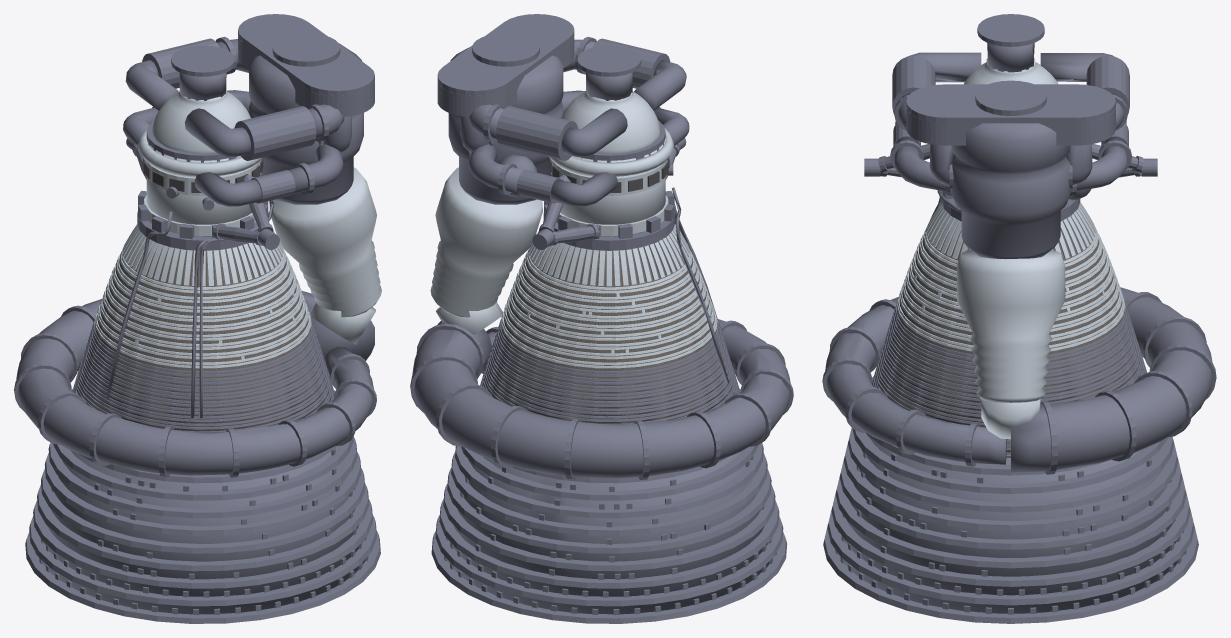
3 views of the same model, side by side, from view 1: azimuth 30°, elevation 25°; view 2: azimuth 150°, elevation 25°; view 3: azimuth 270°, elevation 25° (orthographic). The views are drawn at different scales.
Visible parts, largest first — view 1: f1_bell_top_ring, f1_chamber, f1_nozzle, f1_chamber_window_00; view 2: f1_bell_top_ring, f1_chamber, f1_nozzle, f1_chamber_window_00; view 3: f1_bell_top_ring, f1_chamber, f1_nozzle.
Part boxes in pixels (x1,y1,x2,y2): f1_bell_top_ring: (14,14,380,623); f1_chamber: (94,91,381,368); f1_nozzle: (77,244,331,431); f1_chamber_window_00: (143,157,263,192); f1_bell_top_ring: (410,14,793,623); f1_chamber: (430,90,717,368); f1_nozzle: (485,244,735,423); f1_chamber_window_00: (549,157,669,192); f1_bell_top_ring: (822,14,1216,623); f1_chamber: (896,58,1125,439); f1_nozzle: (875,222,1142,454).
Size of the model in its own units: 4.13 by 5.75 by 3.98.
4 materials, 1 textured.
